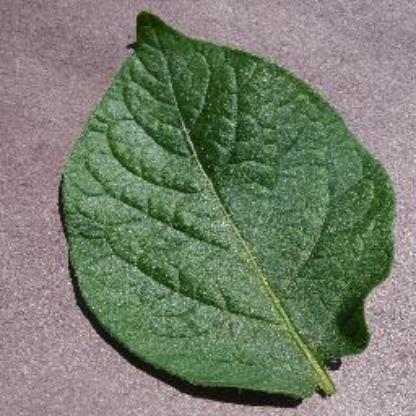Healthy-plant: (59, 8, 398, 398)
